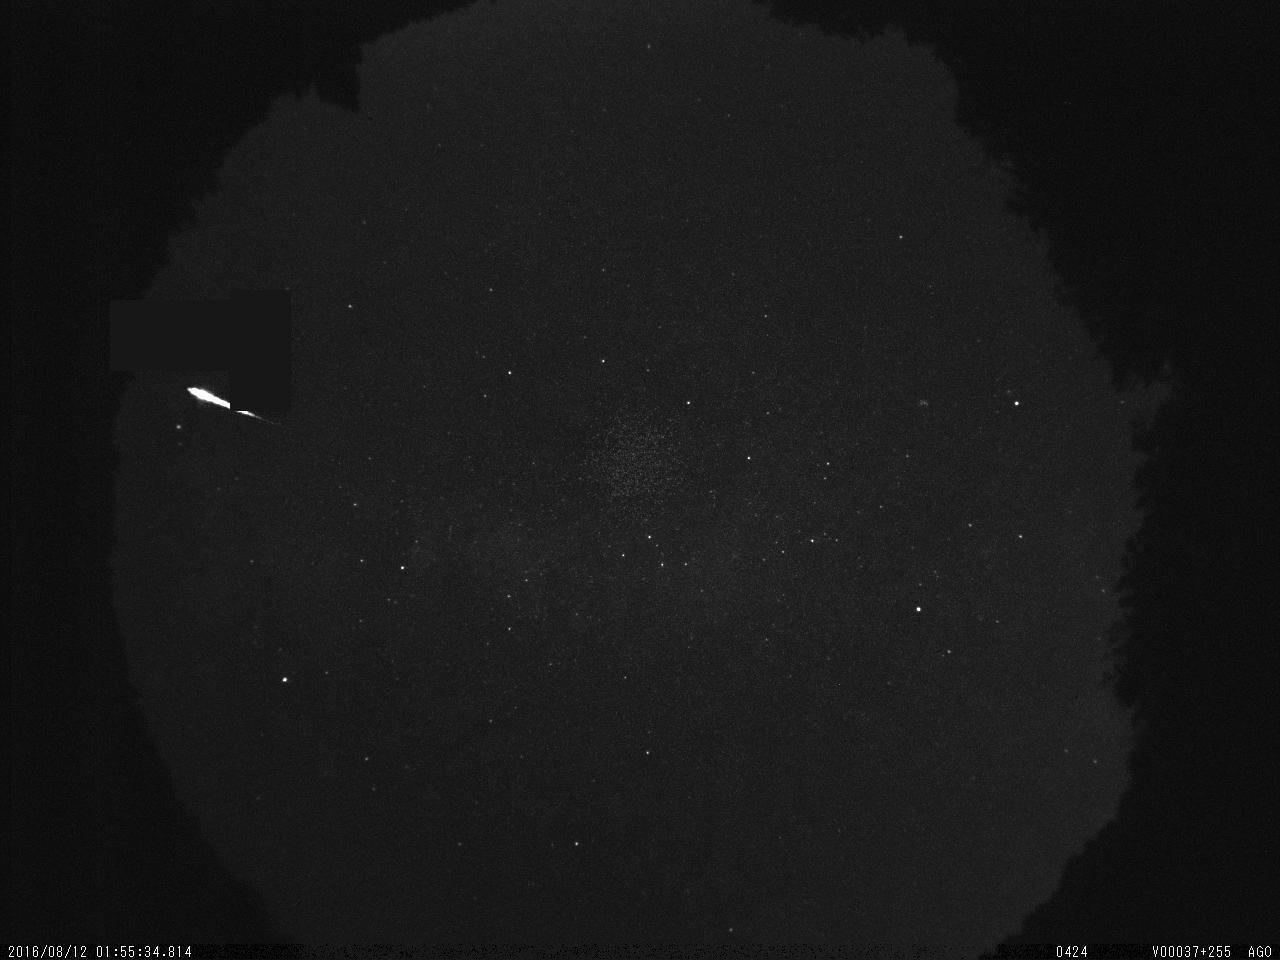Meteor: (184, 383, 280, 429)
